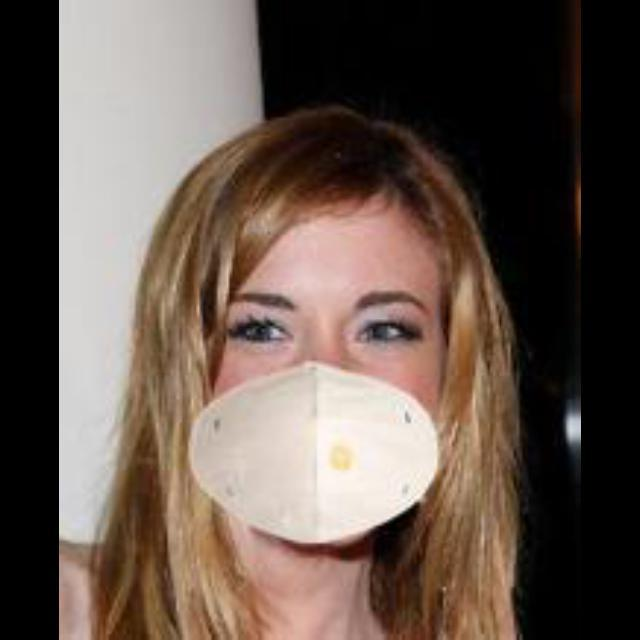suspicion: (205, 91, 489, 584)
